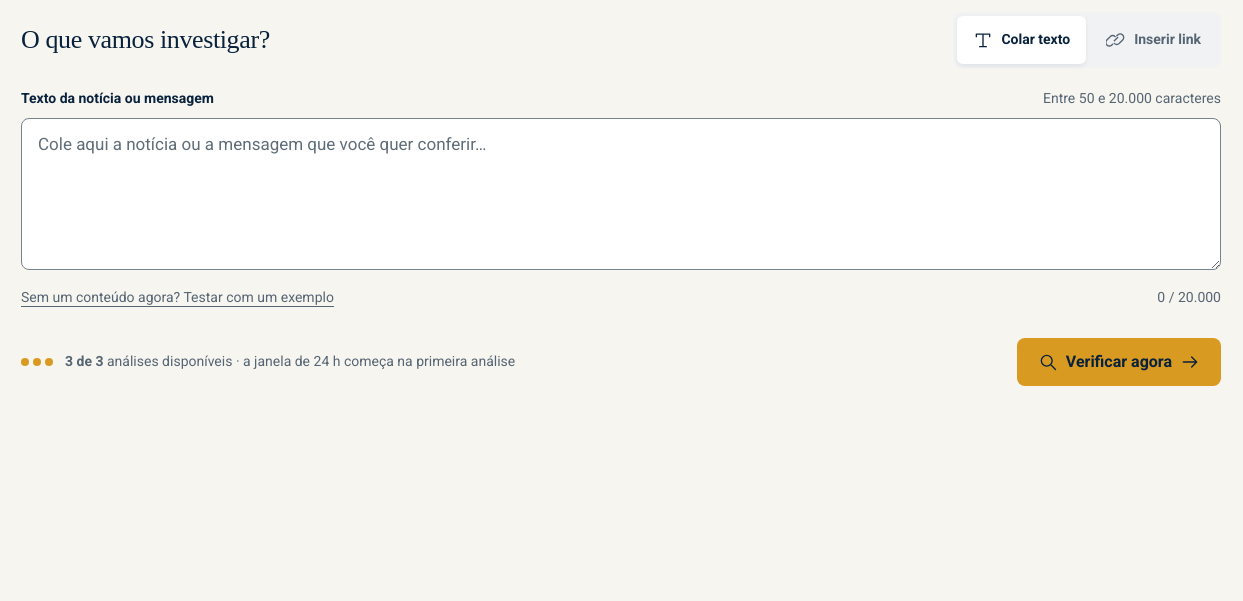
Scenario: validação no navegador (RF01, RF27) › campo vazio também é recusado antes do envio
The width and height of the screenshot is (1243, 601).
Click the button "Verificar agora": click(1119, 362) [1017,338,1221,386]
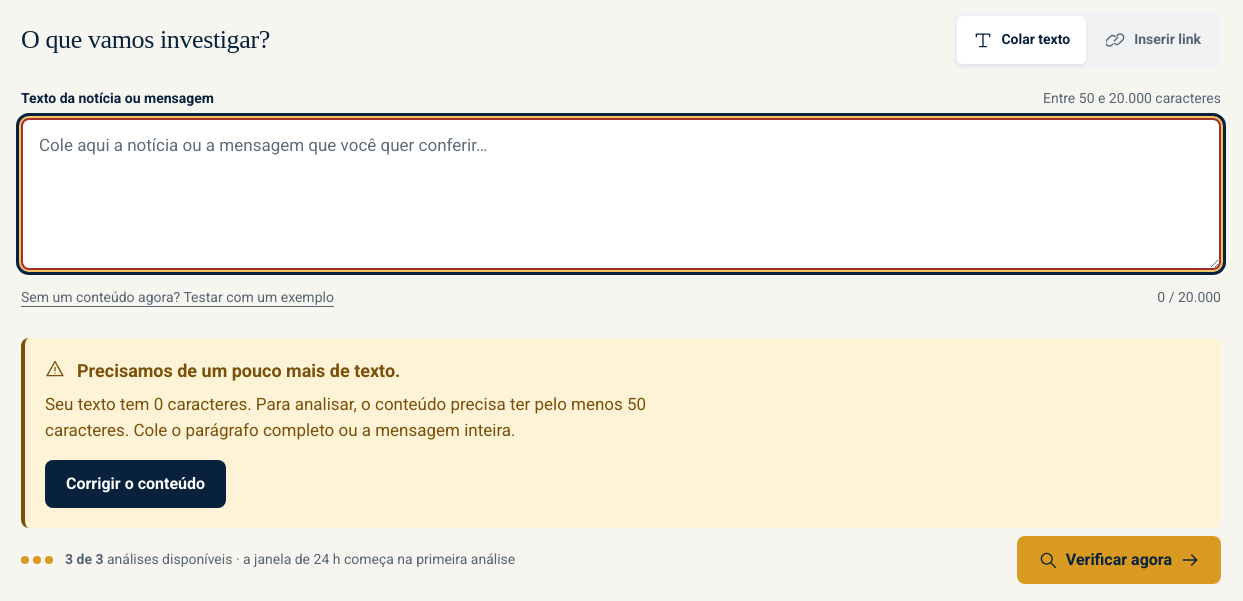
Check: the message is shown, box [45,359,646,440]
Check: the message shows "Precisamos de um pouco mais de texto.", box [77,360,400,381]
